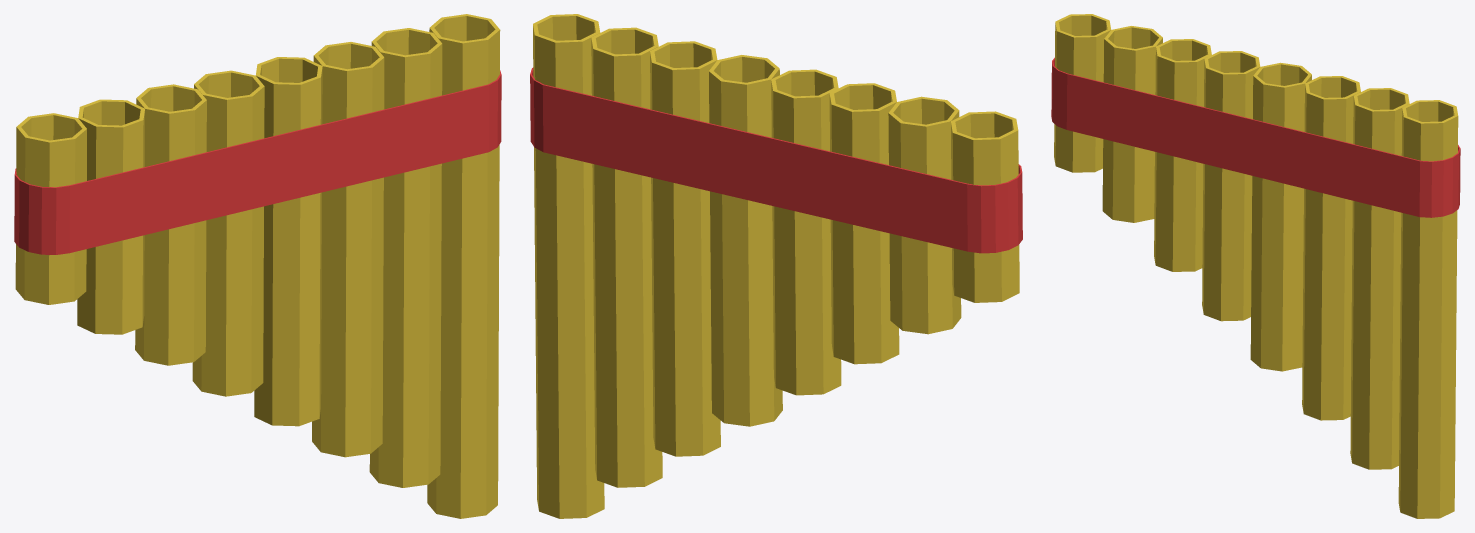
File: flauto.fbx
3 renders of one model, left to right at view 1: azimuth 30°, elevation 25°; view 2: azimuth 150°, elevation 25°; view 3: azimuth 330°, elevation 25°, orthographic. The views are drawn at different scales.
Parts seen in each view (by area): view 1: Body.002; view 2: Body.002; view 3: Body.002.
Part boxes in pixels (bbox=[...]): Body.002: bbox=[14, 14, 501, 518]; Body.002: bbox=[530, 14, 1022, 518]; Body.002: bbox=[1051, 14, 1460, 518].
Bounding box in the file's own units: 354 × 337 × 48.93.
